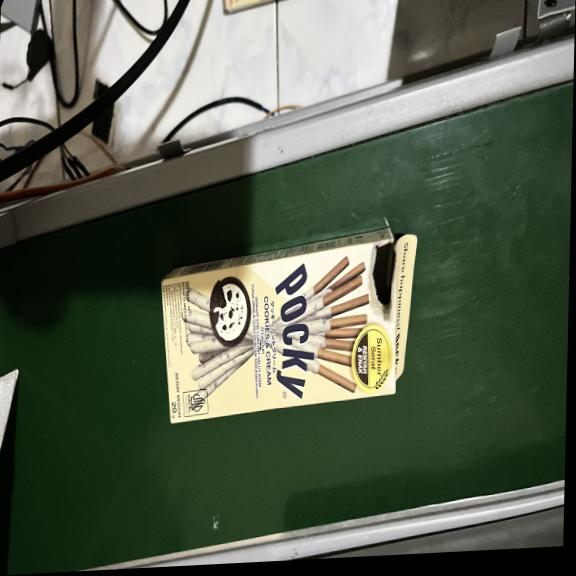Kertas: (155, 241, 396, 425)
